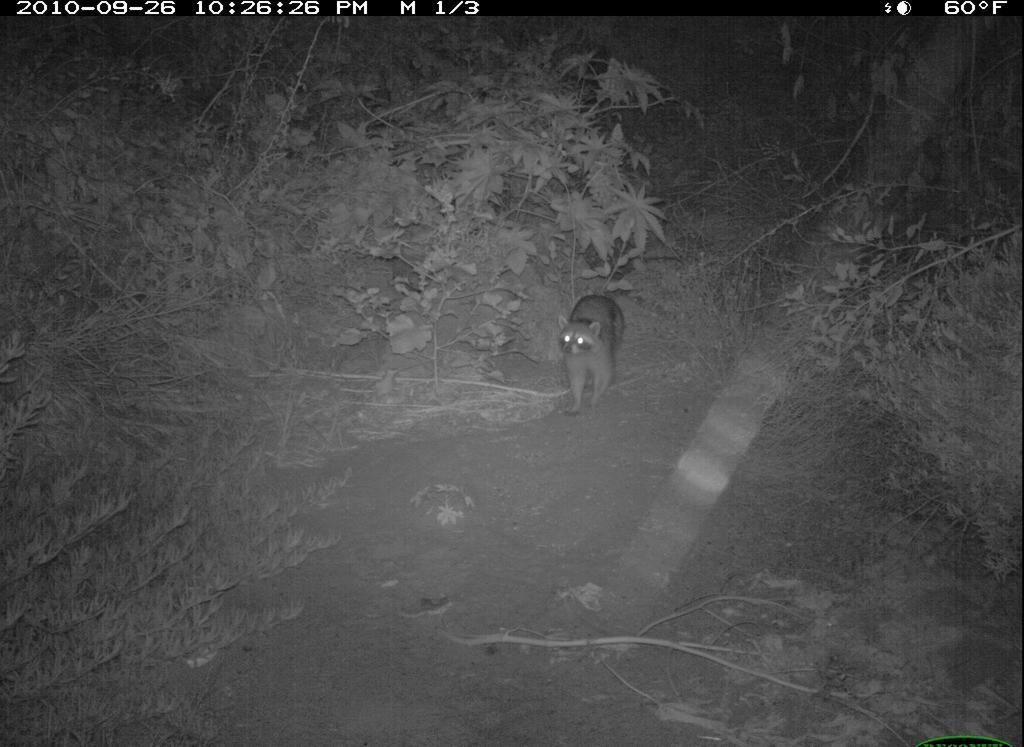raccoon: (556, 287, 630, 420)
